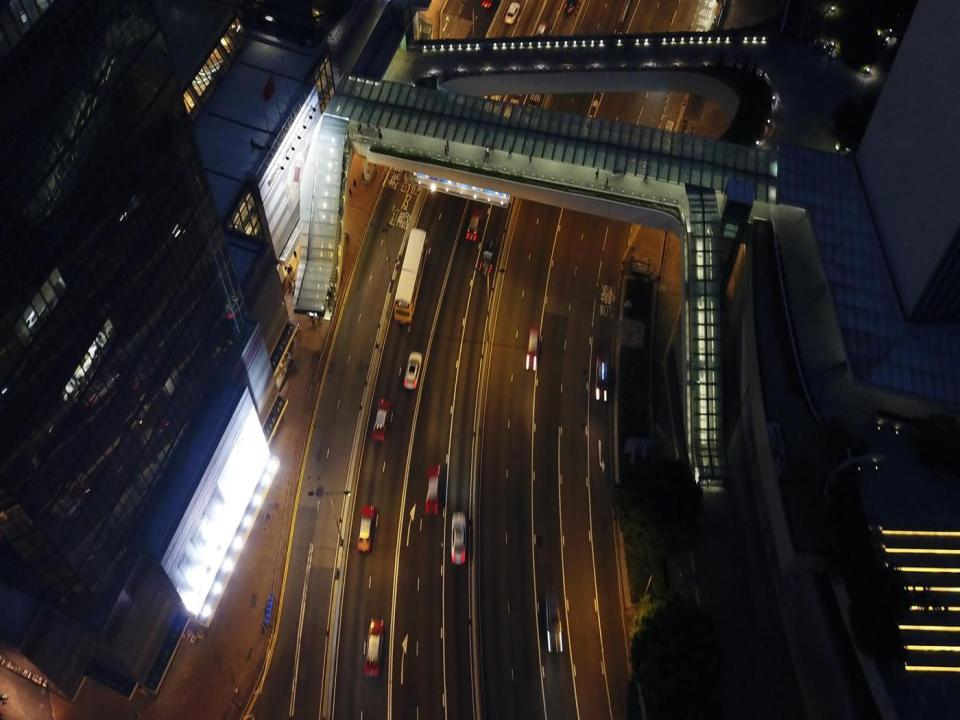bus: (394, 228, 427, 324)
car: (544, 595, 564, 651), (365, 618, 383, 676), (425, 464, 441, 514), (451, 511, 466, 564), (358, 505, 374, 551), (373, 398, 390, 440), (403, 352, 422, 388), (478, 236, 497, 271), (527, 323, 540, 371), (595, 356, 608, 400), (466, 209, 482, 240), (532, 24, 548, 55), (503, 3, 520, 22), (564, 0, 578, 14)
